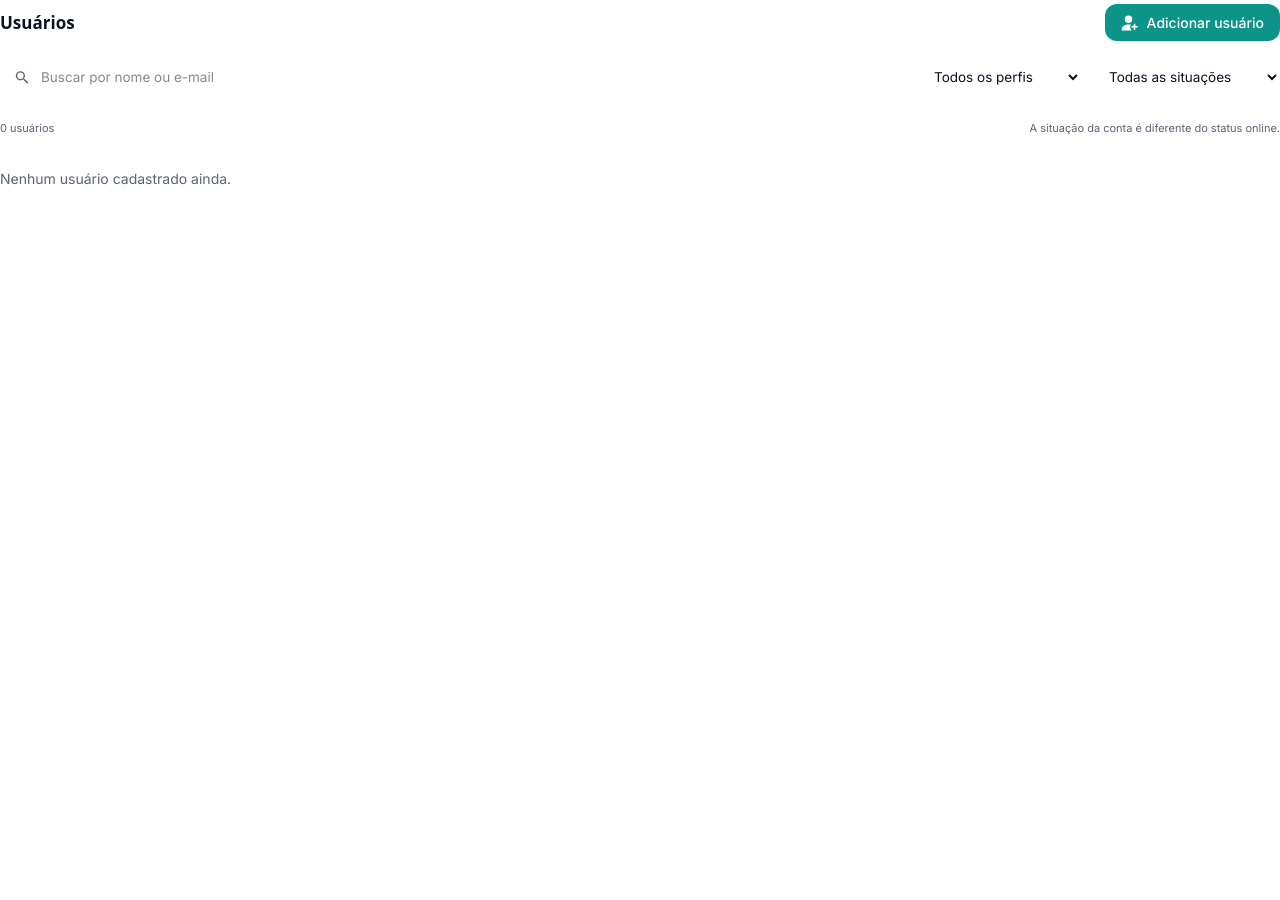
Test: Adicionar usuário › a recusa do backend (gerente só cria atendente) aparece em português, com os dados
Click the button "Adicionar usuário": (1192, 22) [1105, 4, 1279, 41]
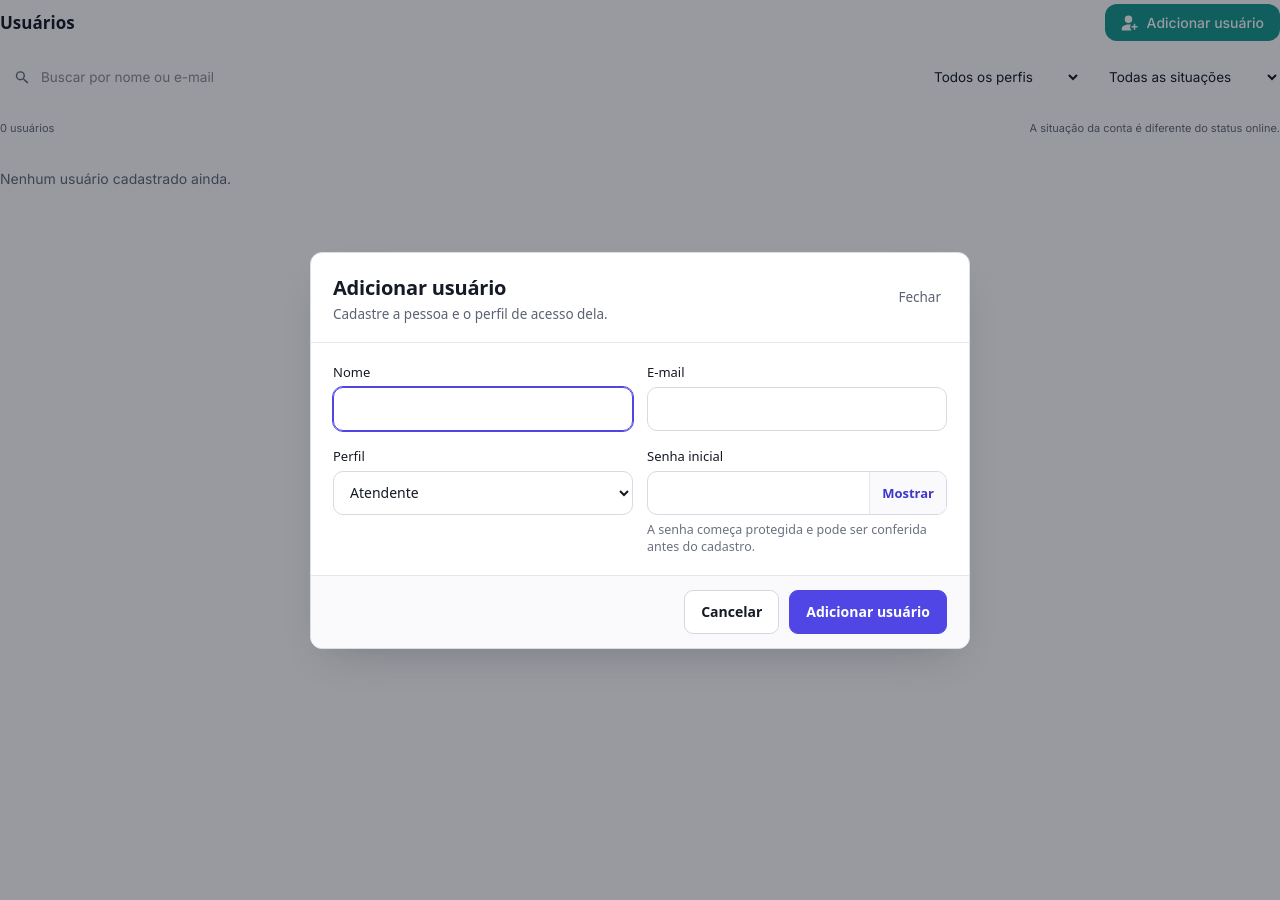
In the field labelled "Nome": (483, 408) [333, 386, 633, 430], type "Admin Exemplo"
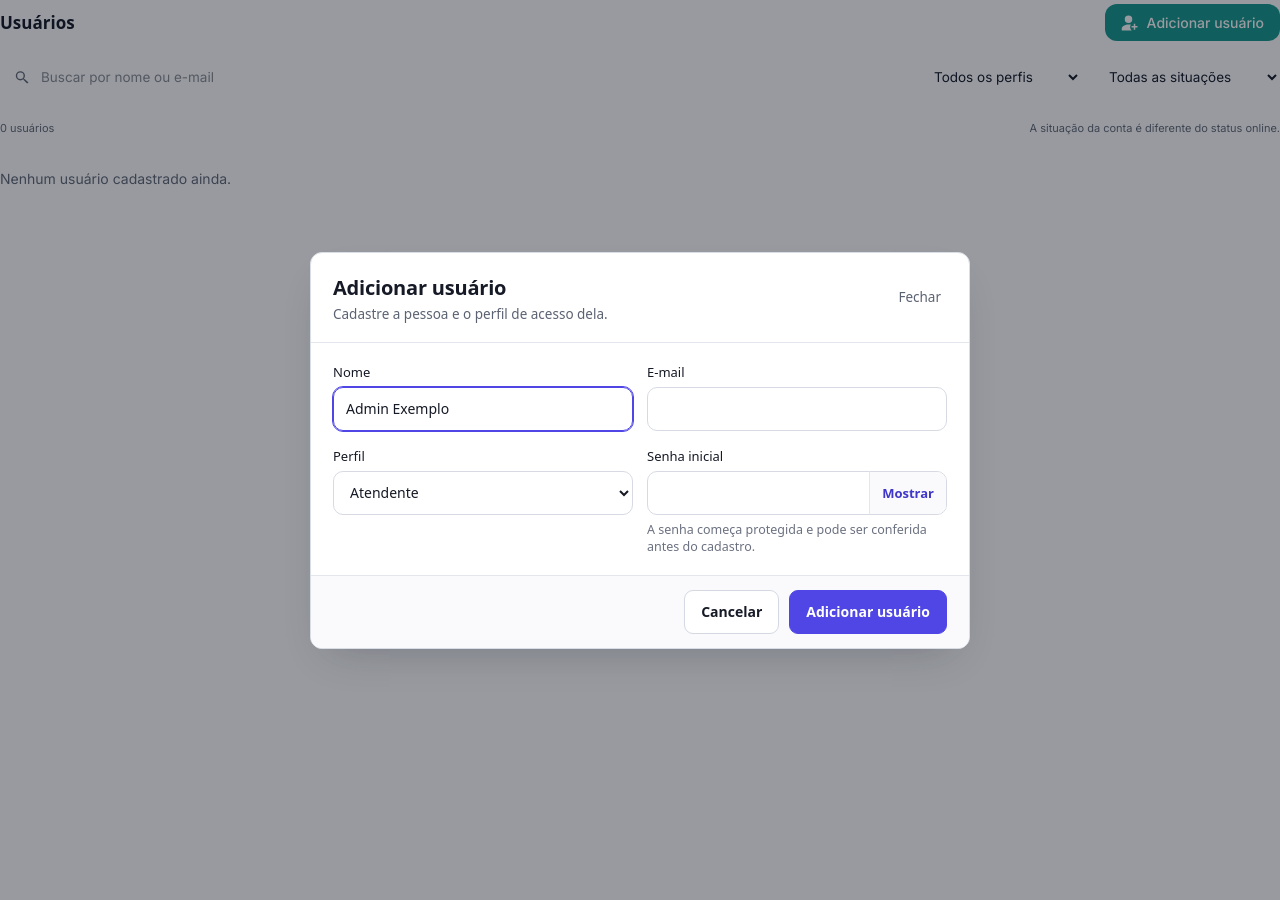
In the field labelled "E-mail": (797, 408) [647, 386, 947, 430], type "admin@exemplo.test"
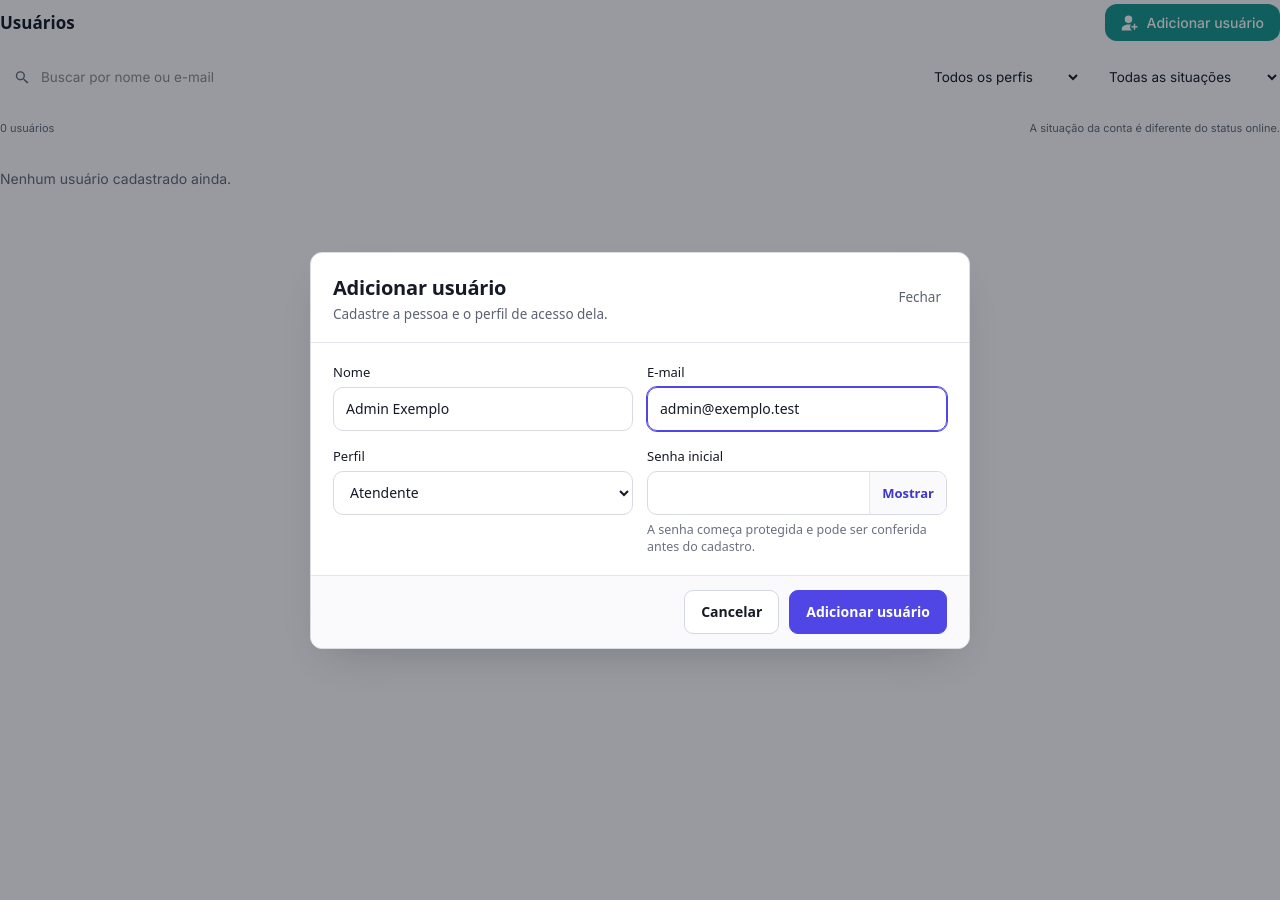
In the password field labelled "Senha inicial": (797, 492) [647, 470, 947, 514], type "senha-ficticia-3"
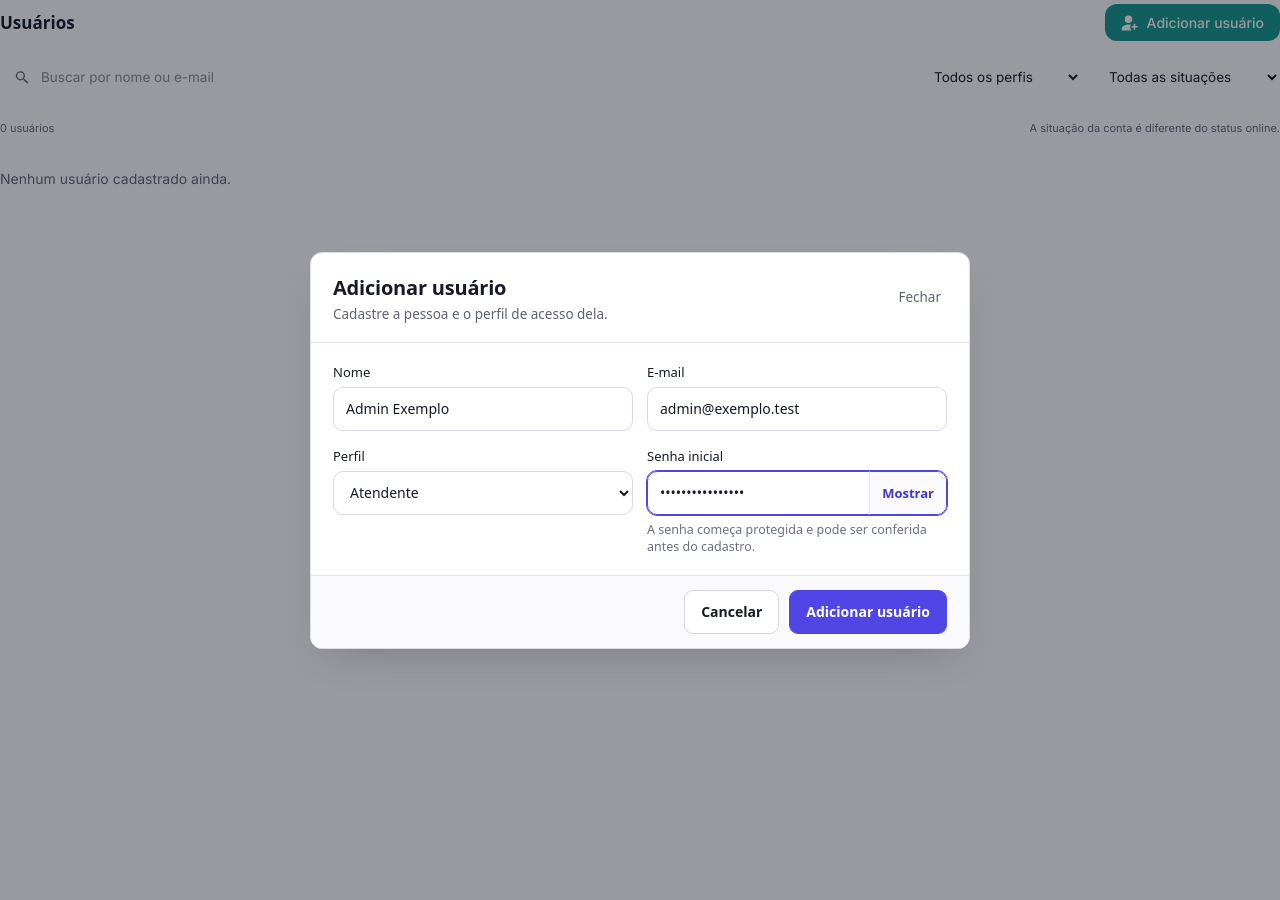
Select "Administrador" in the dropdown labelled "Perfil": (483, 492) [333, 470, 633, 514]
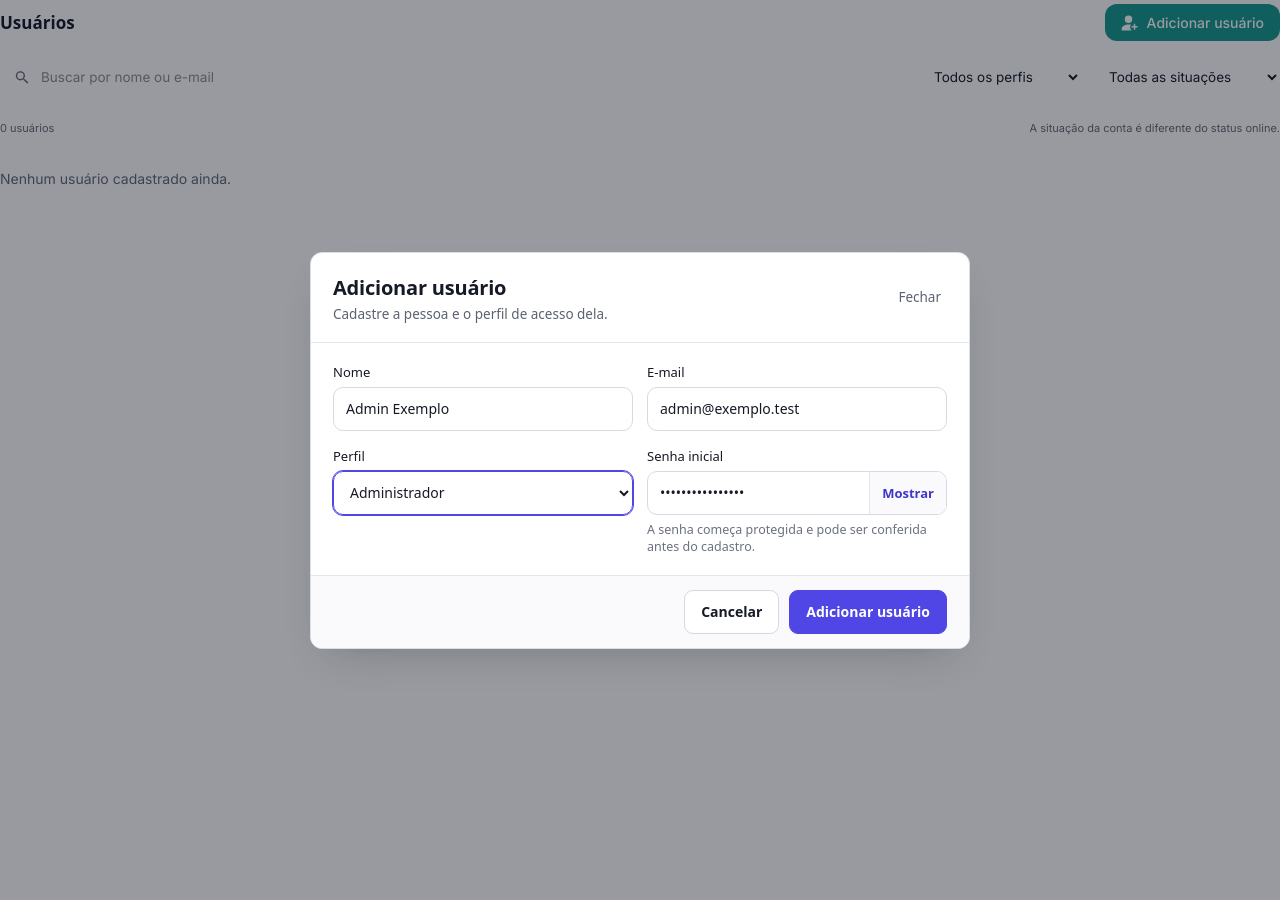
Click the button "Adicionar usuário": (868, 612) [789, 590, 947, 634]
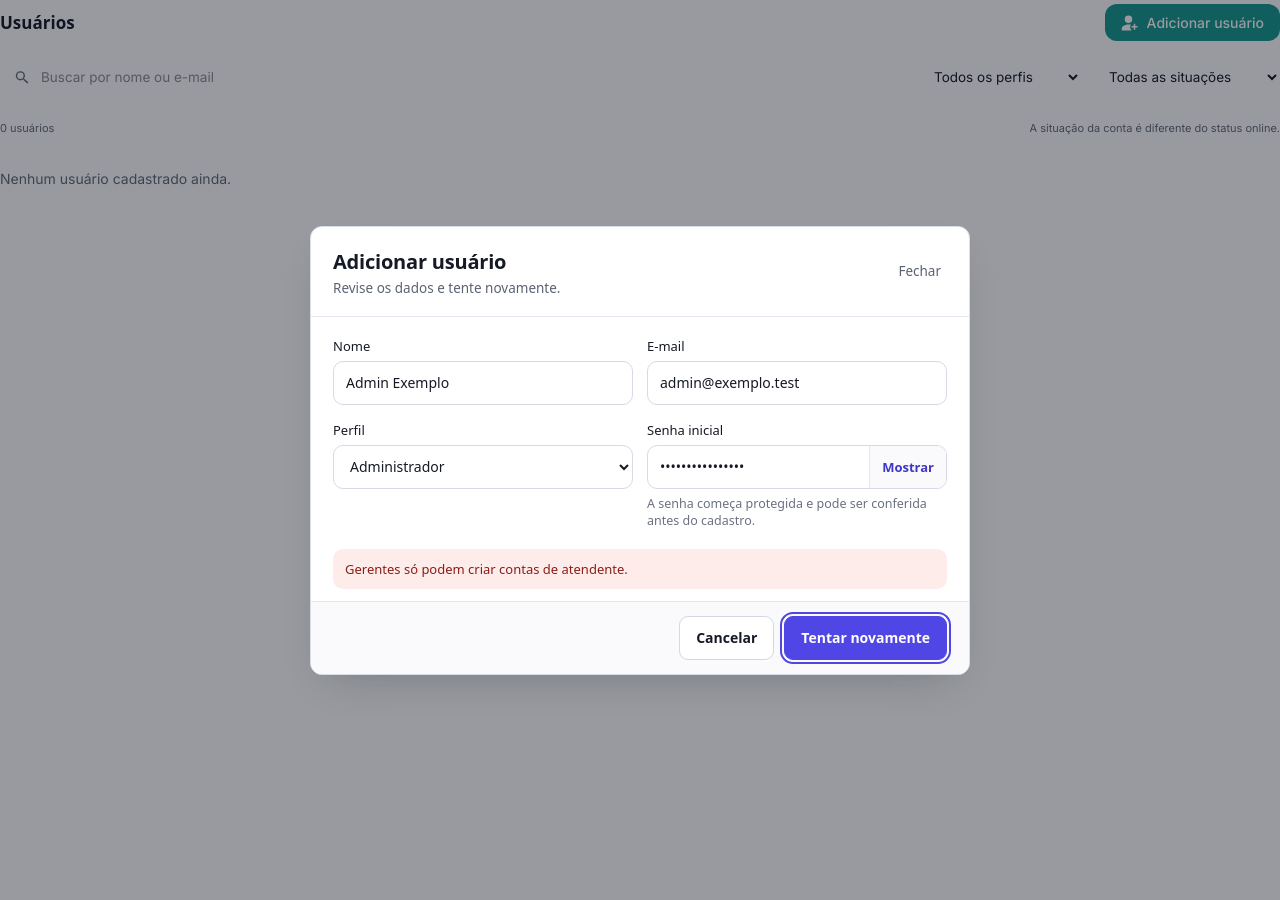
Now the message reads "Gerentes só podem criar contas de atendente.", box [345, 560, 628, 578]
